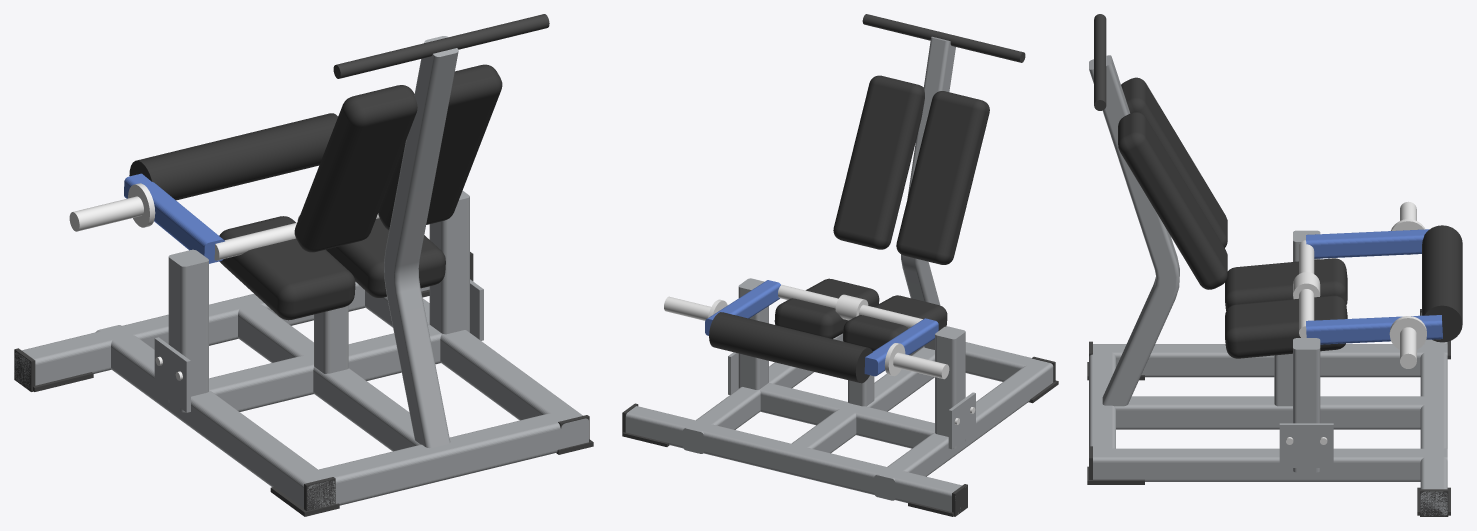
3 views of the same model, side by side, from view 1: azimuth 30°, elevation 25°; view 2: azimuth 150°, elevation 25°; view 3: azimuth 270°, elevation 25° (orthographic). The views are drawn at different scales.
Visible parts, largest first — view 1: base, chest_pad_cushion (×2), lever_support, chest_pad_support_tube, knee_pad_cushion (×2), lever_roller, handle_bar, lever_bar, gusset (×2), lever_horn, knee_pad, end_cap (×2) (+1 smaller); view 2: base, chest_pad_cushion (×2), lever_support, lever_roller, knee_pad_cushion (×2), chest_pad_support_tube, lever_bar (×2), lever_horn (×2), handle_bar, lever_axle, gusset, knee_pad (+1 smaller); view 3: base, chest_pad_cushion (×2), knee_pad_cushion (×2), chest_pad_support_tube, lever_bar (×2), lever_roller, lever_support, gusset, lever_horn (×2), handle_bar, lever_axle, knee_pad (+2 smaller).
Boxes of the visible parts, x1,y1,x2,y2 form: base: (14,282,588,508); chest_pad_cushion (×2): (294,64,502,252); lever_support: (168,190,469,412); chest_pad_support_tube: (384,36,458,448); knee_pad_cushion (×2): (219,216,445,320); lever_roller: (129,113,338,200); handle_bar: (333,14,549,78); lever_bar: (124,173,224,263); gusset (×2): (154,279,483,412); lever_horn: (69,183,155,231); knee_pad: (314,305,348,373); end_cap (×2): (14,348,335,510); base: (625,333,1053,513); chest_pad_cushion (×2): (833,75,989,264); lever_support: (738,278,965,448); lever_roller: (709,312,872,383); knee_pad_cushion (×2): (774,278,947,351); chest_pad_support_tube: (901,36,955,349); lever_bar (×2): (705,280,938,376); lever_horn (×2): (664,296,949,379); handle_bar: (862,14,1025,62); lever_axle: (778,284,922,328); gusset: (948,392,975,449); knee_pad: (848,375,874,406); base: (1089,312,1447,515); chest_pad_cushion (×2): (1118,77,1227,289); knee_pad_cushion (×2): (1225,258,1347,358); chest_pad_support_tube: (1089,55,1179,406); lever_bar (×2): (1306,229,1442,344); lever_roller: (1422,225,1462,342); lever_support: (1293,230,1320,472); gusset: (1279,423,1333,467); lever_horn (×2): (1389,201,1426,368); handle_bar: (1094,14,1106,110); lever_axle: (1299,240,1314,337); knee_pad: (1274,353,1292,406).
Bounding box in the file's own units: 1.27 × 1.2 × 1.11.
